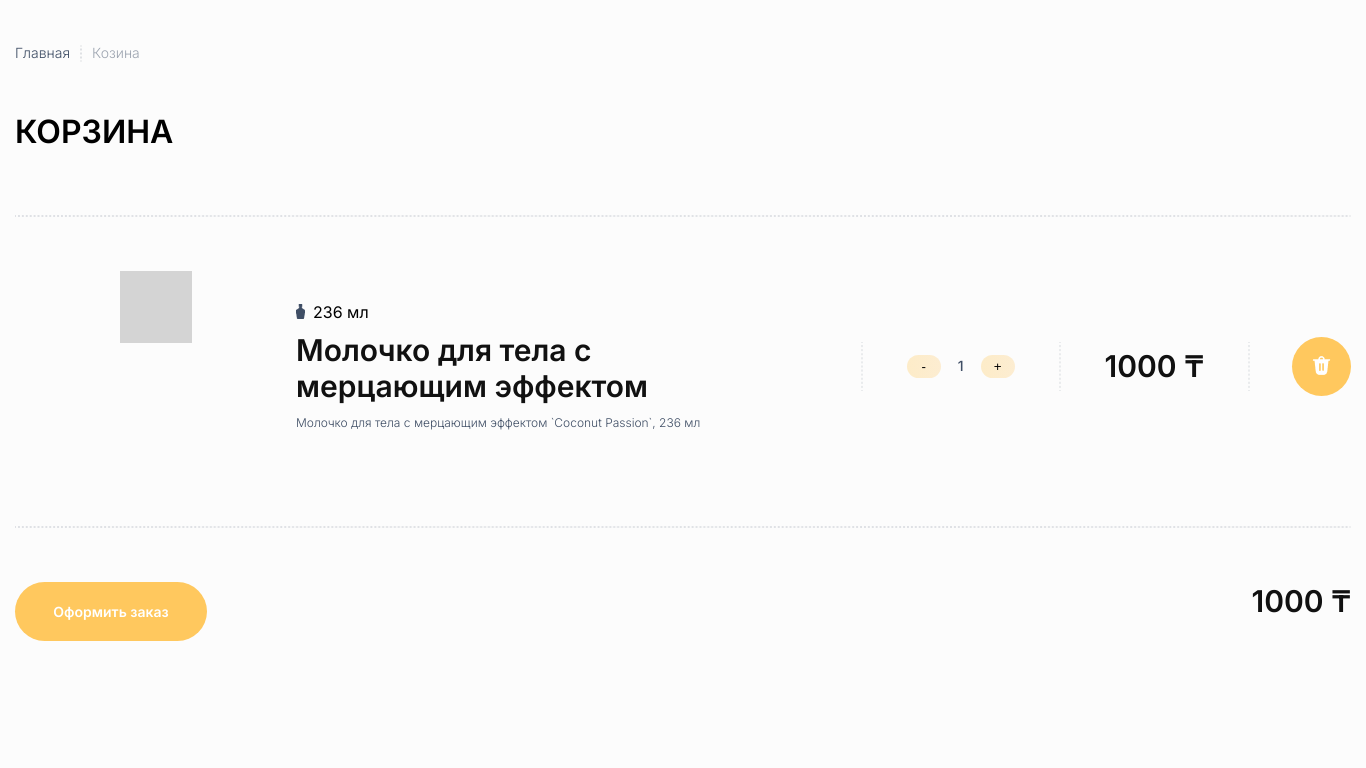
Test Card page › Increase and decrease the number of products
What coordinates should you click on to do the following:
click the button "+"
I would click on:
 (998, 366)
Its box is top-left (980, 355), bottom-right (1014, 378).
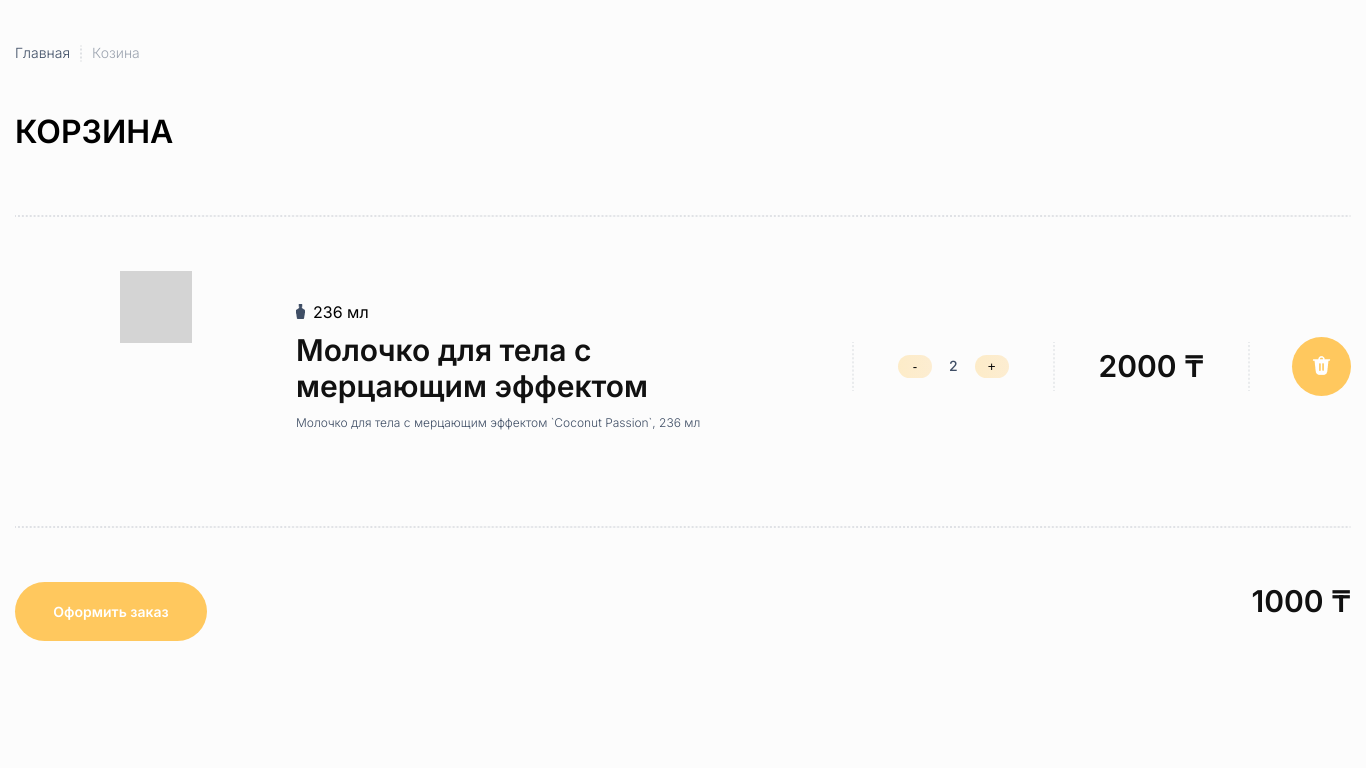
Check: the text with test id "count-product" reads "2", box top-left (949, 357), bottom-right (958, 374)
What coordinates should you click on to do the following:
click the button "-"
I would click on:
 (915, 366)
Its box is top-left (898, 355), bottom-right (932, 378).
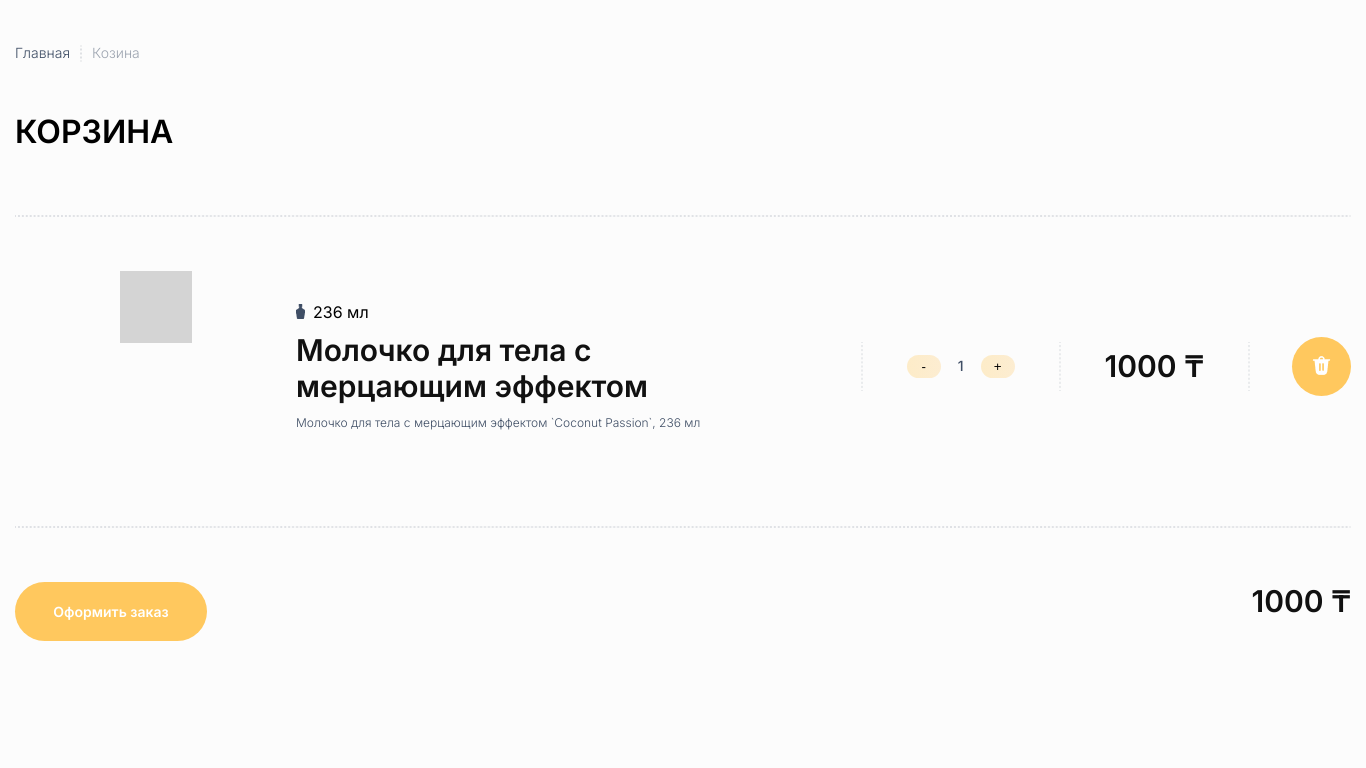
Check: the text with test id "count-product" reads "1", box top-left (958, 357), bottom-right (964, 374)
